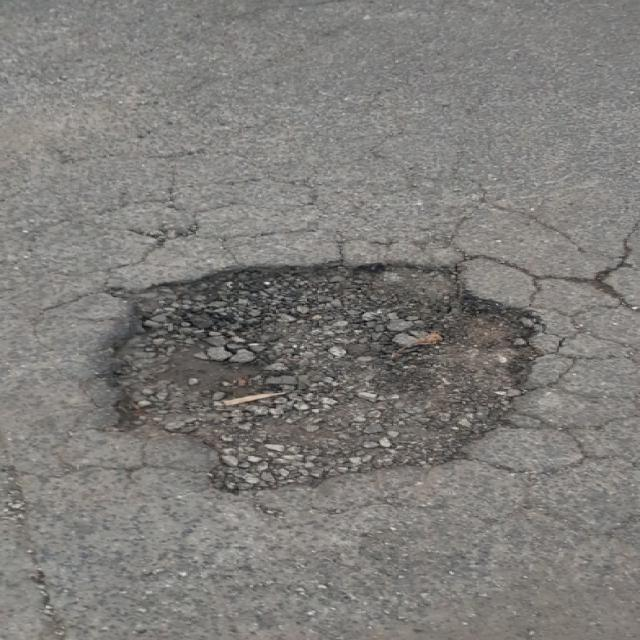Pothole: (88, 256, 560, 496)
